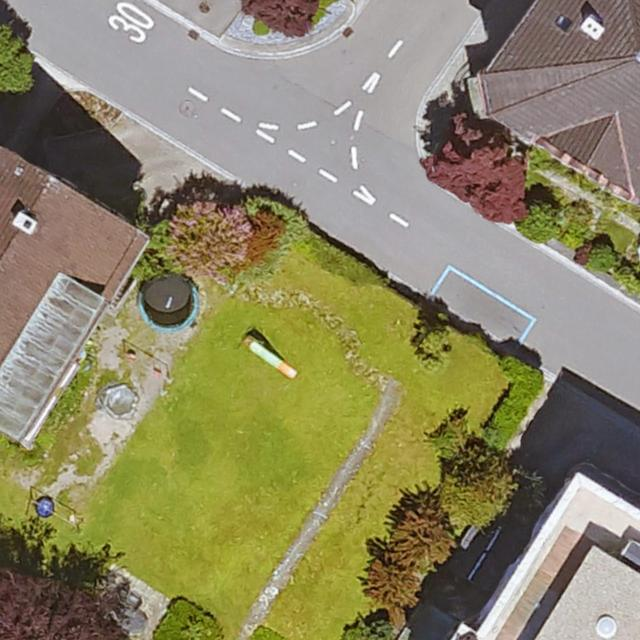tree: (0, 546, 128, 640), (432, 117, 529, 223), (442, 448, 534, 527), (397, 500, 451, 555), (243, 0, 326, 34), (369, 554, 420, 604), (0, 22, 33, 96), (415, 317, 450, 368), (518, 203, 560, 243), (335, 617, 398, 640)
